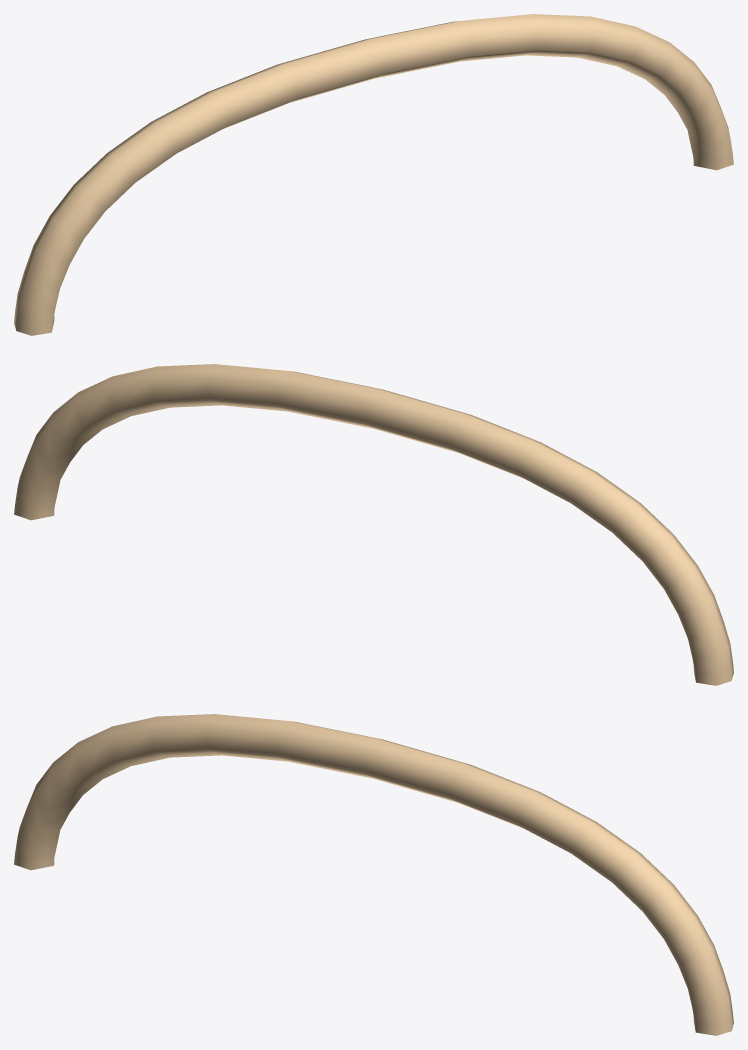
The model's file is chrome_arch.fbx.
3 renders of one model, top to bottom at view 1: azimuth 30°, elevation 25°; view 2: azimuth 150°, elevation 25°; view 3: azimuth 330°, elevation 25°, orthographic.
Visible parts, largest first — view 1: chrome_arch; view 2: chrome_arch; view 3: chrome_arch.
Boxes of the visible parts, x1,y1,x2,y2 form: chrome_arch: [14, 14, 733, 335]; chrome_arch: [14, 364, 733, 685]; chrome_arch: [14, 714, 733, 1035].
Bounding box in the file's own units: 176 × 8.99 × 48.25.
